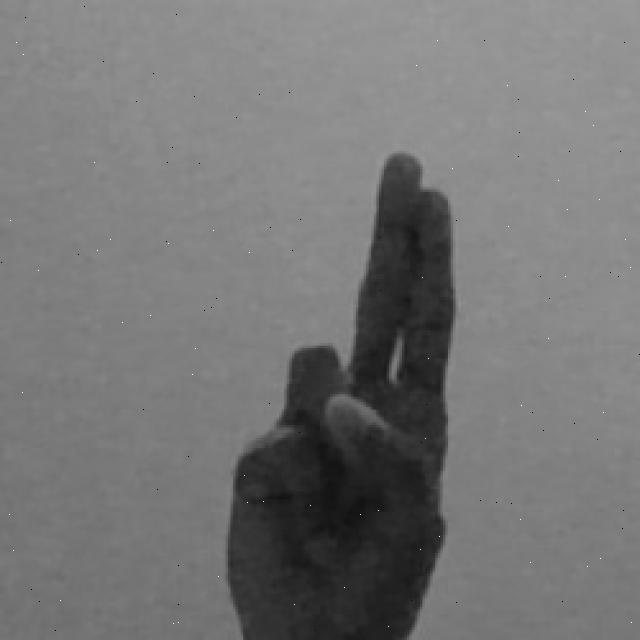U: (212, 147, 463, 640)
